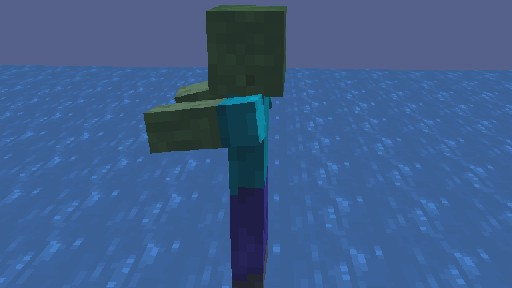zombie: (142, 4, 287, 288)
